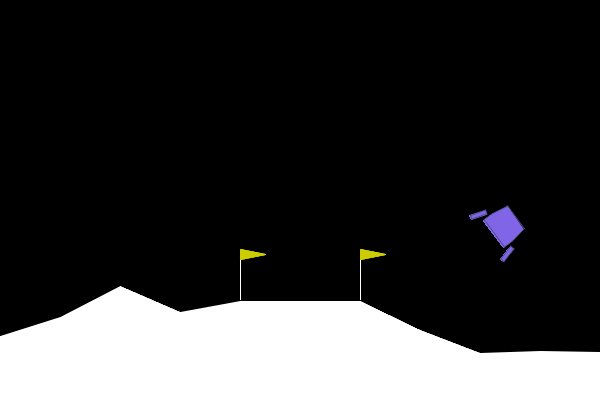lander: (467, 192, 535, 264)
